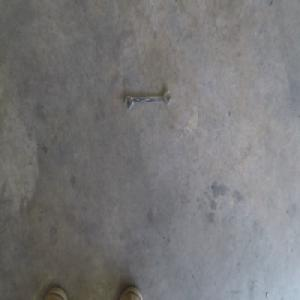Wrench: (124, 90, 171, 109)
